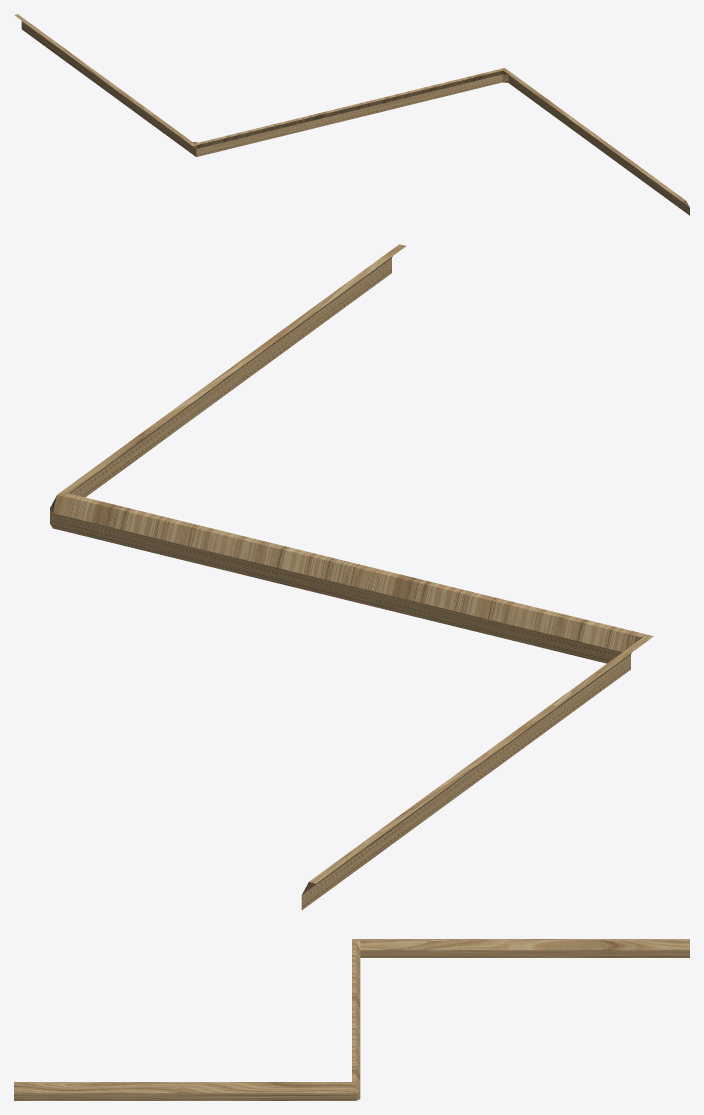
Rendered from SkirtingBoardGroundIndent003.FBX.
3 renders of one model, top to bottom at view 1: azimuth 30°, elevation 25°; view 2: azimuth 150°, elevation 25°; view 3: azimuth 270°, elevation 25°, orthographic. The views are drawn at different scales.
Parts seen in each view (by area): view 1: SkirtingBoardGroundIndent003; view 2: SkirtingBoardGroundIndent003; view 3: SkirtingBoardGroundIndent003.
Boxes of the visible parts, x1,y1,x2,y2 form: SkirtingBoardGroundIndent003: (14,14,689,215); SkirtingBoardGroundIndent003: (50,244,653,910); SkirtingBoardGroundIndent003: (14,939,689,1100).
Bounding box in the file's own units: 205 × 10 × 400.
